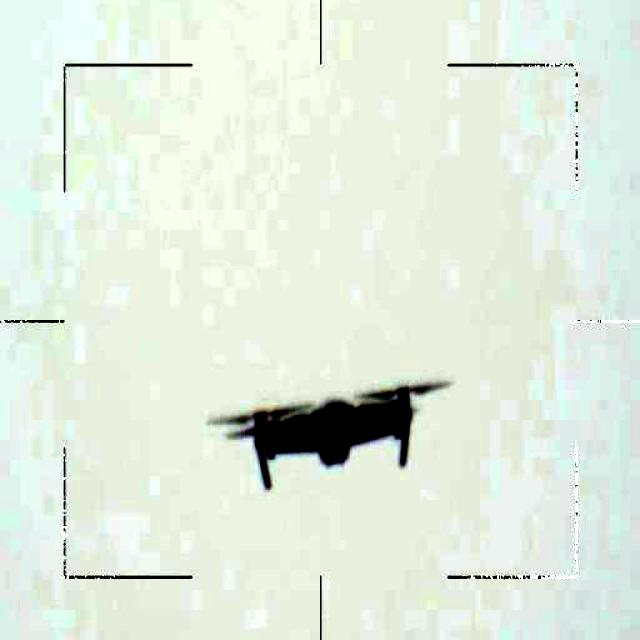bird: (211, 366, 452, 491)
